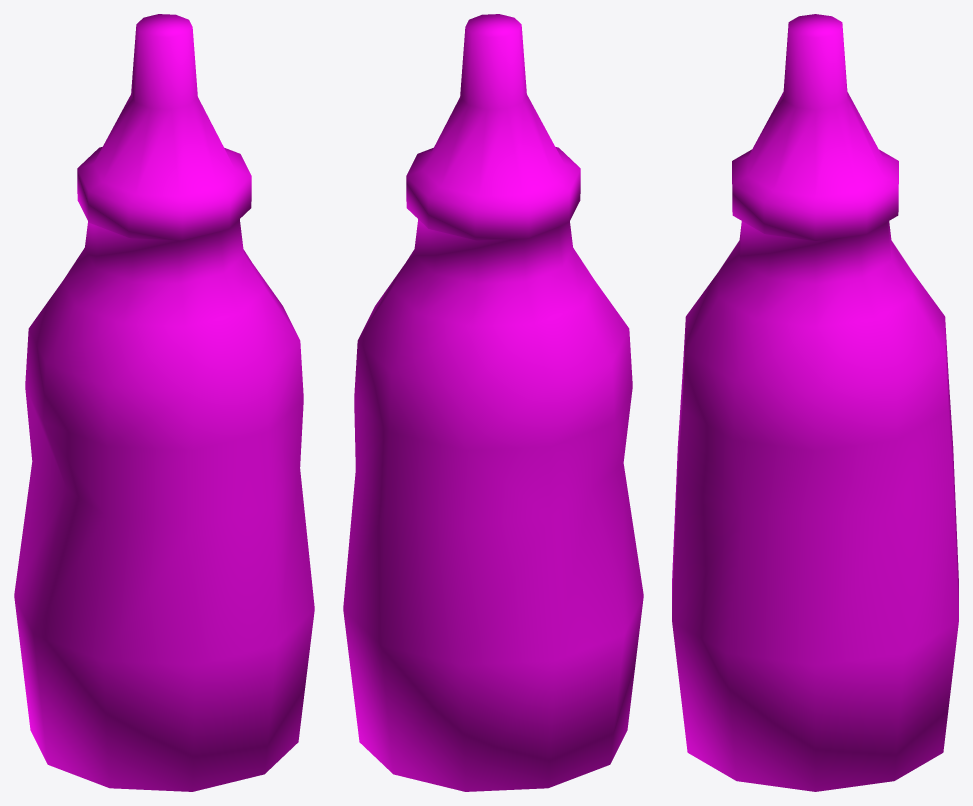
Rendered from mustardBottle_meshCollider.fbx.
3 views of the same model, side by side, from view 1: azimuth 30°, elevation 25°; view 2: azimuth 150°, elevation 25°; view 3: azimuth 270°, elevation 25° (orthographic).
Parts seen in each view (by area): view 1: foods_mustardBottle_1_meshCollider; view 2: foods_mustardBottle_1_meshCollider; view 3: foods_mustardBottle_1_meshCollider.
Boxes of the visible parts, x1,y1,x2,y2 form: foods_mustardBottle_1_meshCollider: (14, 14, 314, 791); foods_mustardBottle_1_meshCollider: (343, 14, 643, 791); foods_mustardBottle_1_meshCollider: (672, 14, 958, 791).
Bounding box in the file's own units: 6.95 × 18.03 × 6.61.
